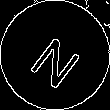N_NE: (24, 23, 86, 87)
